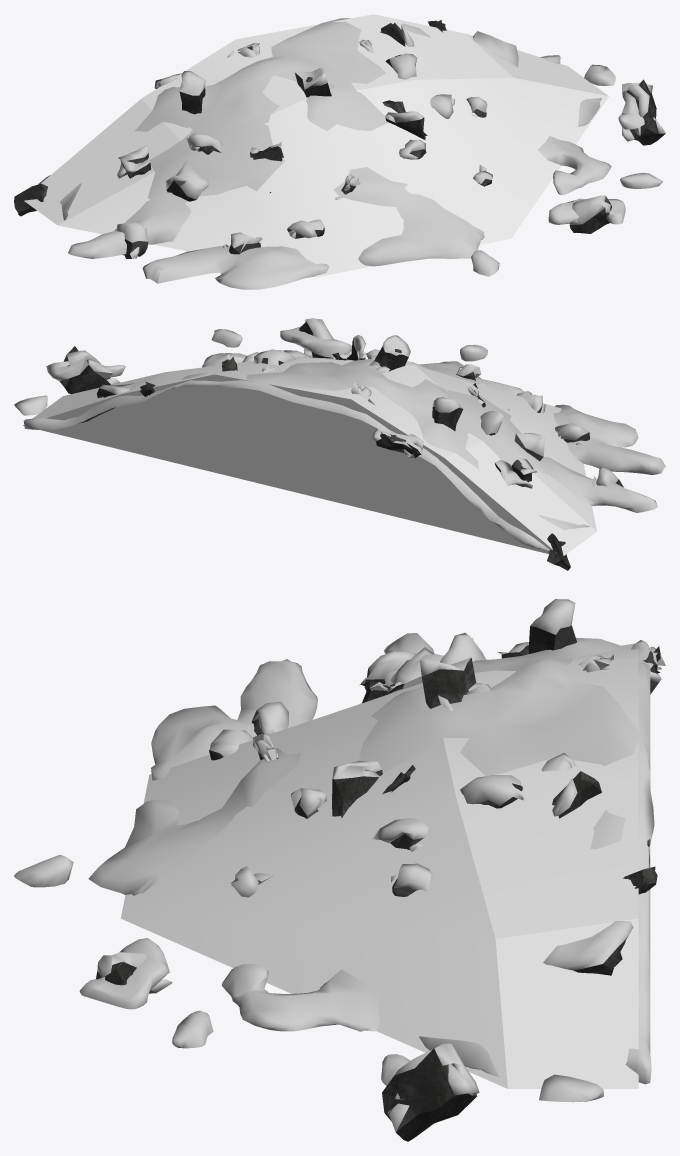
The model's file is Side_Mud.fbx.
3 views of the same model, one above another, from view 1: azimuth 30°, elevation 25°; view 2: azimuth 150°, elevation 25°; view 3: azimuth 270°, elevation 25° (orthographic). The views are drawn at different scales.
Visible parts, largest first — view 1: Side_Mud_col, snow, Side_Mud; view 2: Side_Mud_col, snow, Side_Mud; view 3: Side_Mud_col, snow, Side_Mud.
Part boxes in pixels (box(x1,y1,x2,y2)): Side_Mud_col: box(24, 14, 608, 277); snow: box(38, 18, 665, 289); Side_Mud: box(14, 20, 665, 258); Side_Mud_col: box(23, 357, 596, 555); snow: box(14, 318, 665, 551); Side_Mud: box(59, 321, 623, 570); Side_Mud_col: box(120, 643, 638, 1088); snow: box(14, 599, 665, 1132); Side_Mud: box(96, 625, 660, 1141).
Size of the model in its own units: 161 by 37.77 by 95.18.
